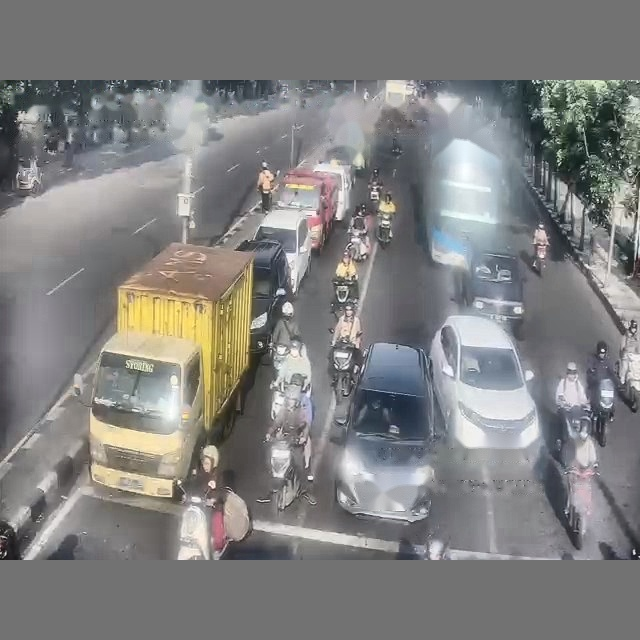Bis: (425, 139, 504, 268)
Mobil: (334, 342, 434, 522), (430, 315, 540, 450), (236, 240, 290, 354), (461, 251, 524, 337), (254, 209, 310, 296)
Motor: (177, 482, 228, 559), (265, 429, 302, 515), (564, 465, 597, 549), (555, 404, 592, 452), (592, 378, 614, 446), (331, 278, 356, 318), (623, 353, 639, 412), (15, 162, 42, 195), (346, 226, 368, 262), (270, 381, 288, 420), (271, 344, 289, 379), (376, 213, 391, 247), (532, 243, 547, 275), (369, 184, 381, 205), (329, 329, 333, 332)
Truk: (89, 243, 253, 497), (277, 168, 338, 251)
